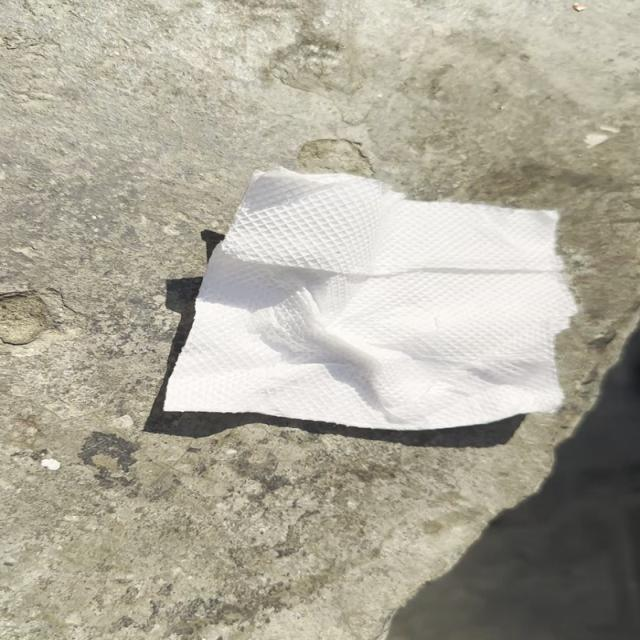tissue: (156, 162, 584, 427)
